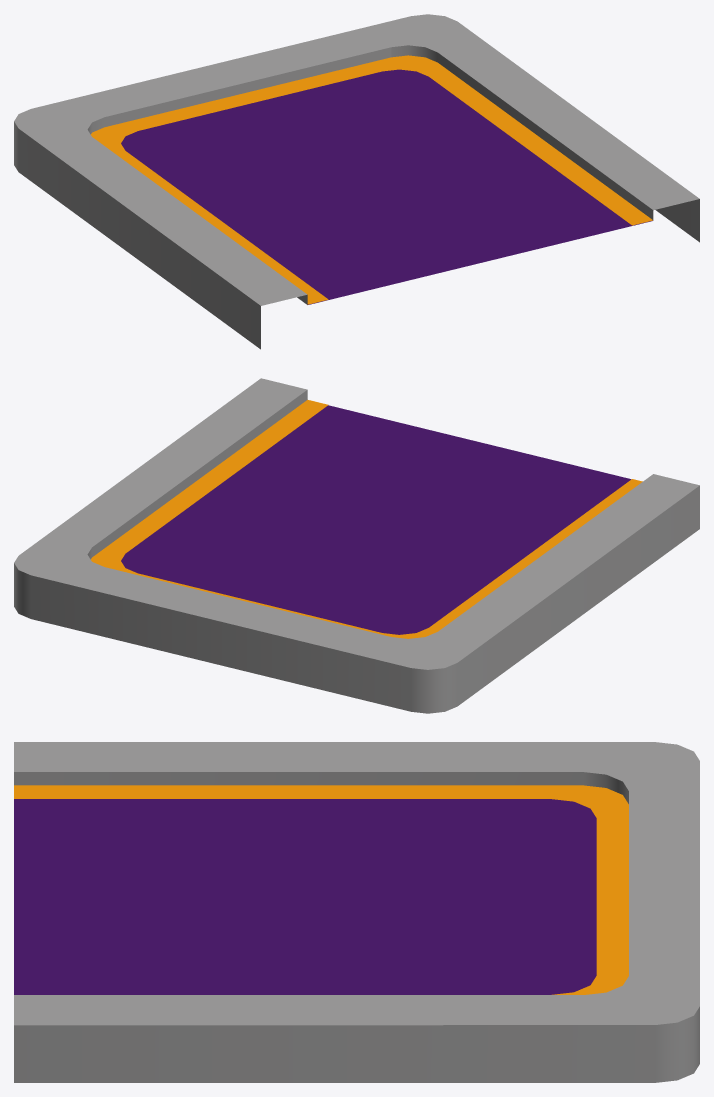
File: Road_C_18.glb
The picture shows the model from 3 angles, top to bottom: view 1: azimuth 30°, elevation 25°; view 2: azimuth 150°, elevation 25°; view 3: azimuth 270°, elevation 25°; orthographic projection. The views are drawn at different scales.
Parts seen in each view (by area): view 1: Road_C_18; view 2: Road_C_18; view 3: Road_C_18.
Part boxes in pixels (x1=…): Road_C_18: x1=14, y1=14, x2=699, y2=349; Road_C_18: x1=14, y1=378, x2=699, y2=713; Road_C_18: x1=14, y1=742, x2=699, y2=1082.
Bounding box in the file's own units: 4.36 × 0.4151 × 4.46.
1 material, 1 textured.
